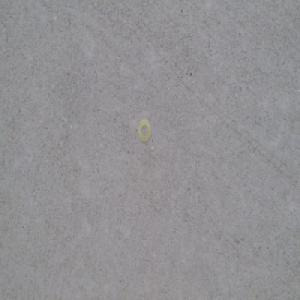Washer: (136, 118, 150, 145)
